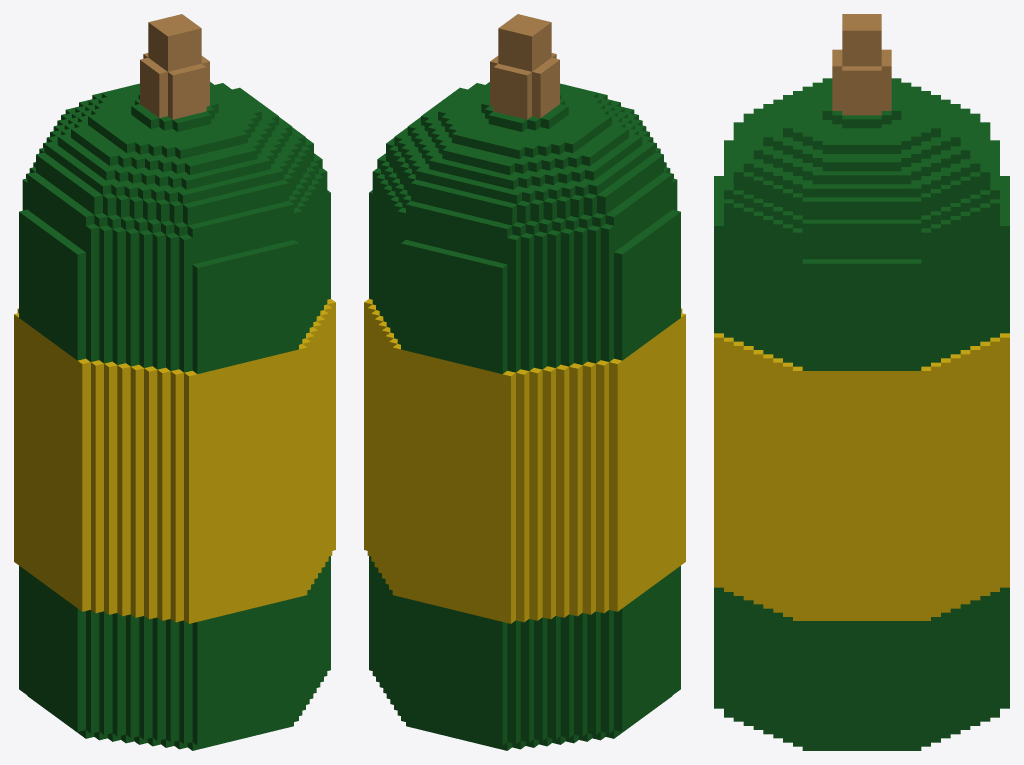
The model's file is small_propane_tank.glb.
The picture shows the model from 3 angles, left to right: view 1: azimuth 30°, elevation 25°; view 2: azimuth 150°, elevation 25°; view 3: azimuth 270°, elevation 25°; orthographic projection.
Visible parts, largest first — view 1: small_propane_tank:compound; view 2: small_propane_tank:compound; view 3: small_propane_tank:compound.
Boxes of the visible parts, bbox=[...] form: small_propane_tank:compound: bbox=[14, 14, 335, 750]; small_propane_tank:compound: bbox=[364, 14, 685, 750]; small_propane_tank:compound: bbox=[714, 14, 1009, 750].
Bounding box in the file's own units: 0.12 × 0.3 × 0.12.
